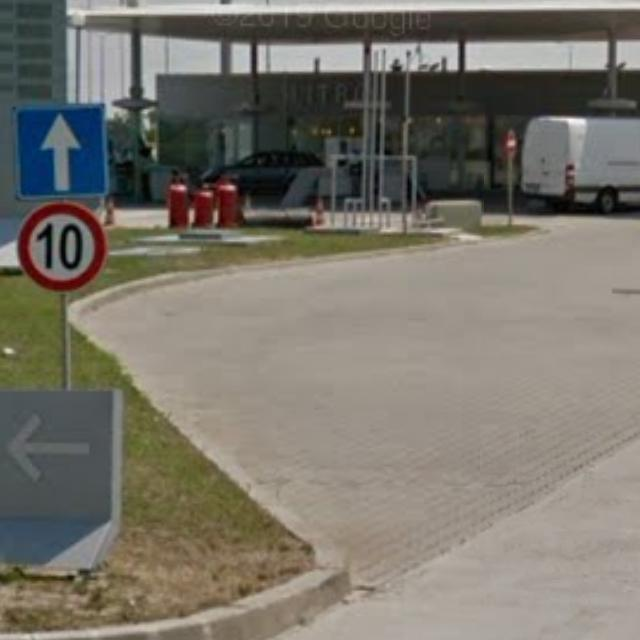forb_speed_over_10: (16, 202, 108, 292)
